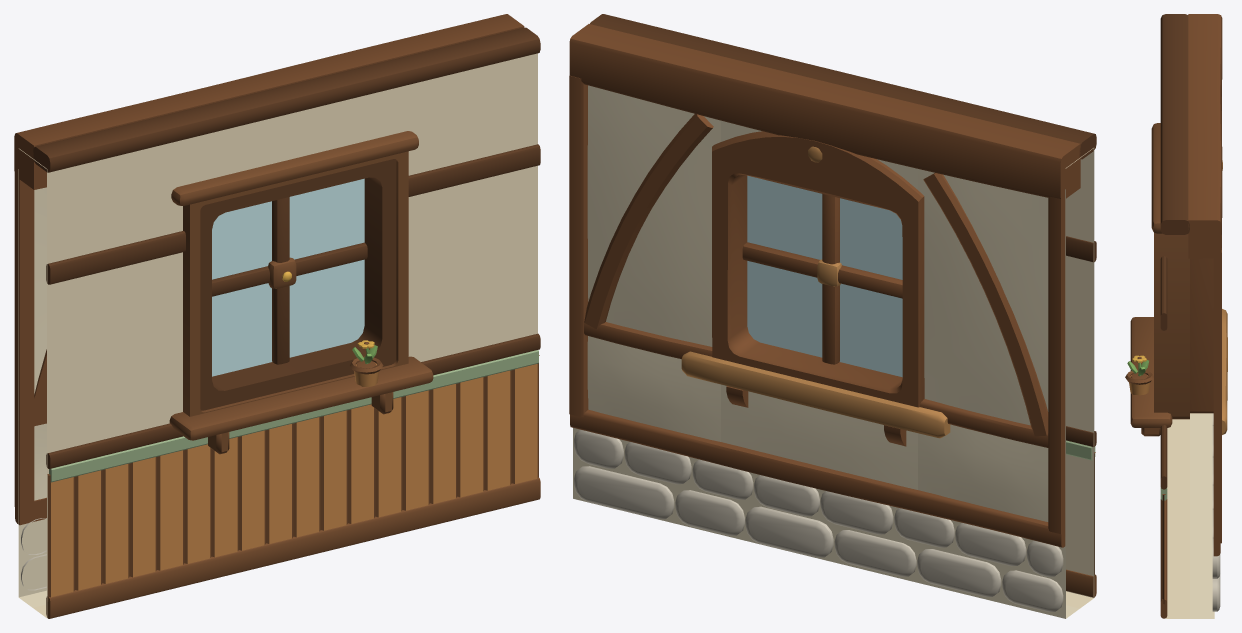
File: ZoneKitWallWindow_v2.fbx
3 renders of one model, left to right at view 1: azimuth 30°, elevation 25°; view 2: azimuth 150°, elevation 25°; view 3: azimuth 270°, elevation 25°, orthographic. The views are drawn at different scales.
Visible parts, largest first — view 1: ZoneKitWallWindow_v2; view 2: ZoneKitWallWindow_v2; view 3: ZoneKitWallWindow_v2.
Part boxes in pixels (bbox=[...]): ZoneKitWallWindow_v2: bbox=[14, 14, 540, 618]; ZoneKitWallWindow_v2: bbox=[569, 14, 1096, 618]; ZoneKitWallWindow_v2: bbox=[1125, 14, 1227, 618].
Bounding box in the file's own units: 3 × 2.7 × 0.631.
